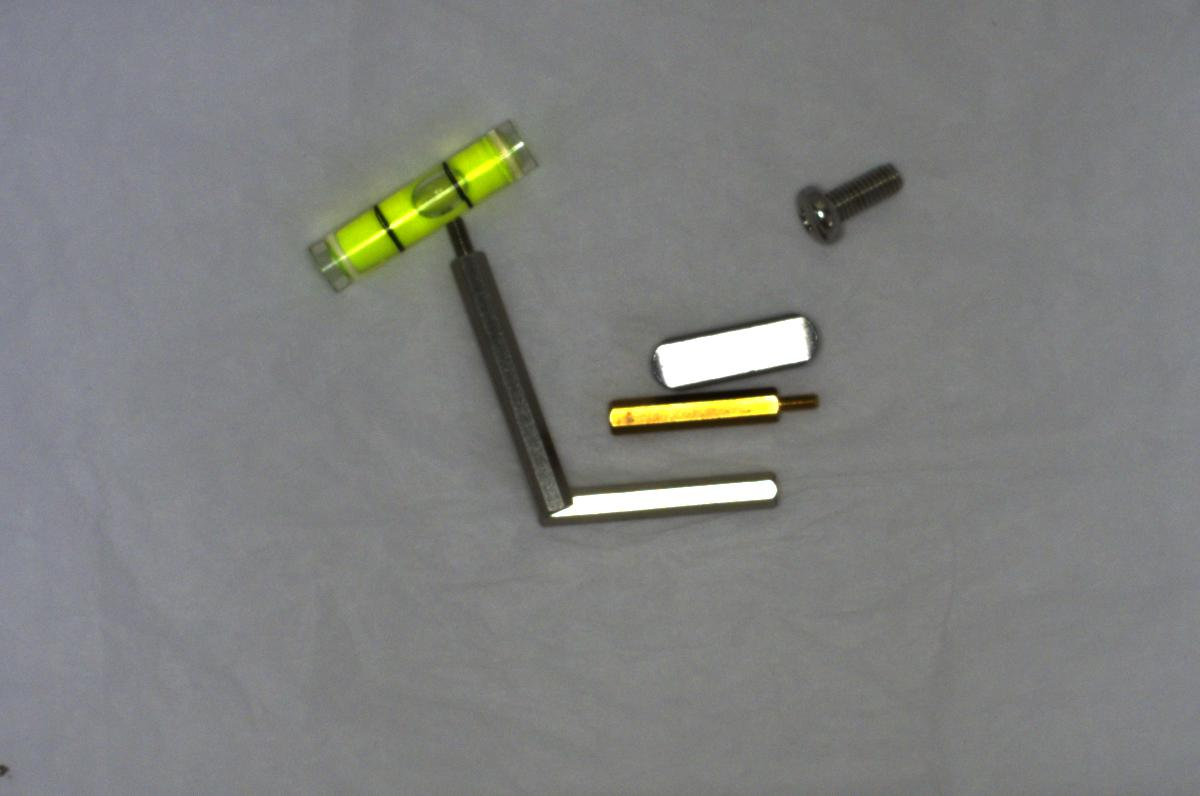Double hexagonal column: (521, 469, 789, 530)
Hexagon pillar: (600, 389, 824, 437)
Hexagonal steel column: (446, 217, 571, 515)
Horizontal bubble: (293, 110, 546, 296)
Keybar: (638, 299, 823, 396)
Round head screw: (785, 146, 906, 248)
